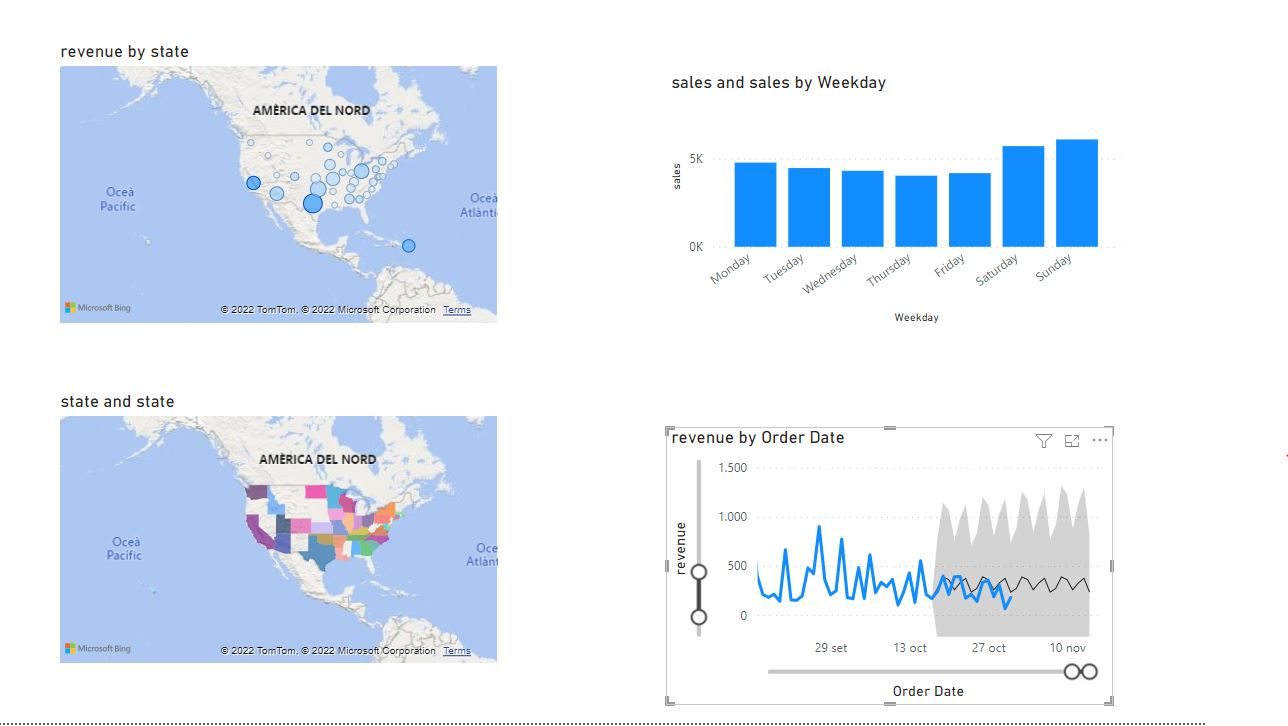

Layout of this report page (visuals, bound fields, positions):
{"tool":"powerbi","page":{"name":"Page 2","canvas":[1280,720],"ordinal":4},"visuals":[{"type":"clusteredColumnChart","fields":{"Y":["Sum(sales2018-2019.sales)"],"Category":["Date Dimension.Weekday"]},"box":[789.8,9.7,394.9,321],"z":0},{"type":"map","fields":{"Category":["stores.state","stores.city"],"Size":["Sum(sales2018-2019.revenue)"]},"box":[64.2,9.7,421.2,321],"z":1000},{"type":"filledMap","fields":{"Category":["stores.state"],"Series":["stores.state"]},"box":[64.2,376.4,421.2,321],"z":2000},{"type":"lineChart","fields":{"Y":["Sum(sales2018-2019.revenue)"],"Category":["sales2018-2019.Order Date"]},"box":[776.2,367.7,421.2,321],"z":3000},{"type":"actionButton","box":[533,507.7,124.5,39.9],"z":4000}]}

Visuals, with their boxes in screenshot pixels (x1, y1, x2, y2), scaled from the page's 1280x720 canvas onto the 1288x726 screenshot:
clusteredColumnChart - Sum(sales2018-2019.sales) x Date Dimension.Weekday: [795, 10, 1192, 333]
map - stores.state x stores.city: [65, 10, 488, 333]
filledMap - stores.state x stores.state: [65, 380, 488, 703]
lineChart - Sum(sales2018-2019.revenue) x sales2018-2019.Order Date: [781, 371, 1205, 694]
actionButton: [536, 512, 662, 552]
